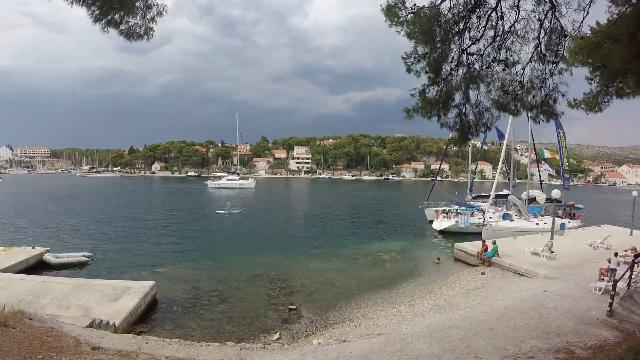Freighter: (74, 163, 126, 181)
Sailboat: (200, 170, 262, 190)
